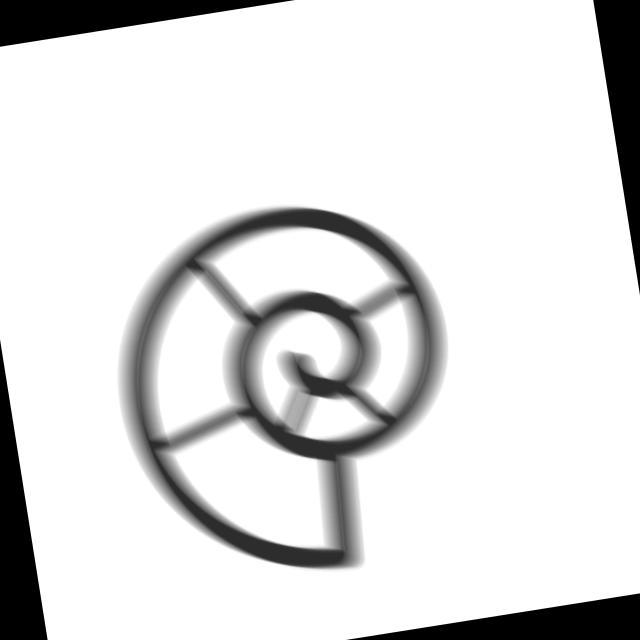fossil: (86, 174, 487, 605)
